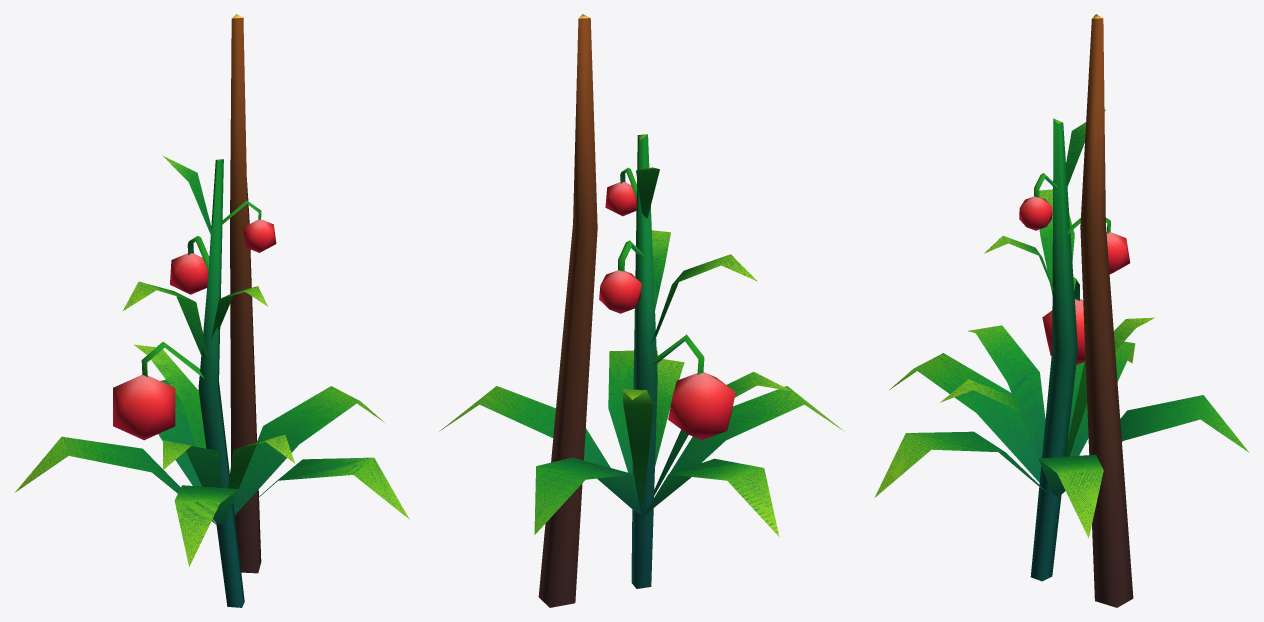
Rendered from Agricultural_Plant_3B.fbx.
3 renders of one model, left to right at view 1: azimuth 30°, elevation 25°; view 2: azimuth 150°, elevation 25°; view 3: azimuth 270°, elevation 25°, orthographic. The views are drawn at different scales.
Parts seen in each view (by area): view 1: Agricultural_Plant_3B; view 2: Agricultural_Plant_3B; view 3: Agricultural_Plant_3B.
Boxes of the visible parts, left/top/right/bottom form: Agricultural_Plant_3B: left=15, top=14, right=409, bottom=607; Agricultural_Plant_3B: left=439, top=14, right=844, bottom=607; Agricultural_Plant_3B: left=874, top=14, right=1249, bottom=607.
Size of the model in its own units: 1.03 by 1.57 by 0.9293.
